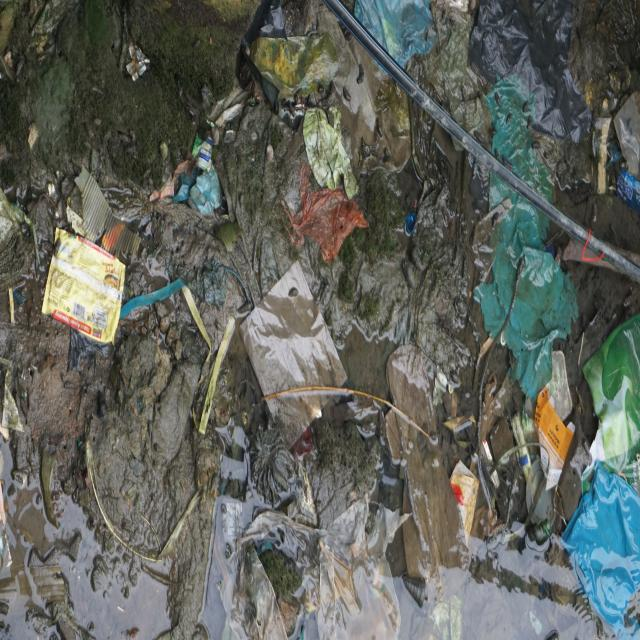Bungkus Makanan: (40, 227, 126, 350)
Kantong Plastik: (479, 81, 582, 404), (475, 3, 591, 152), (563, 460, 640, 640), (313, 499, 404, 640), (283, 164, 372, 270), (354, 1, 439, 79)
